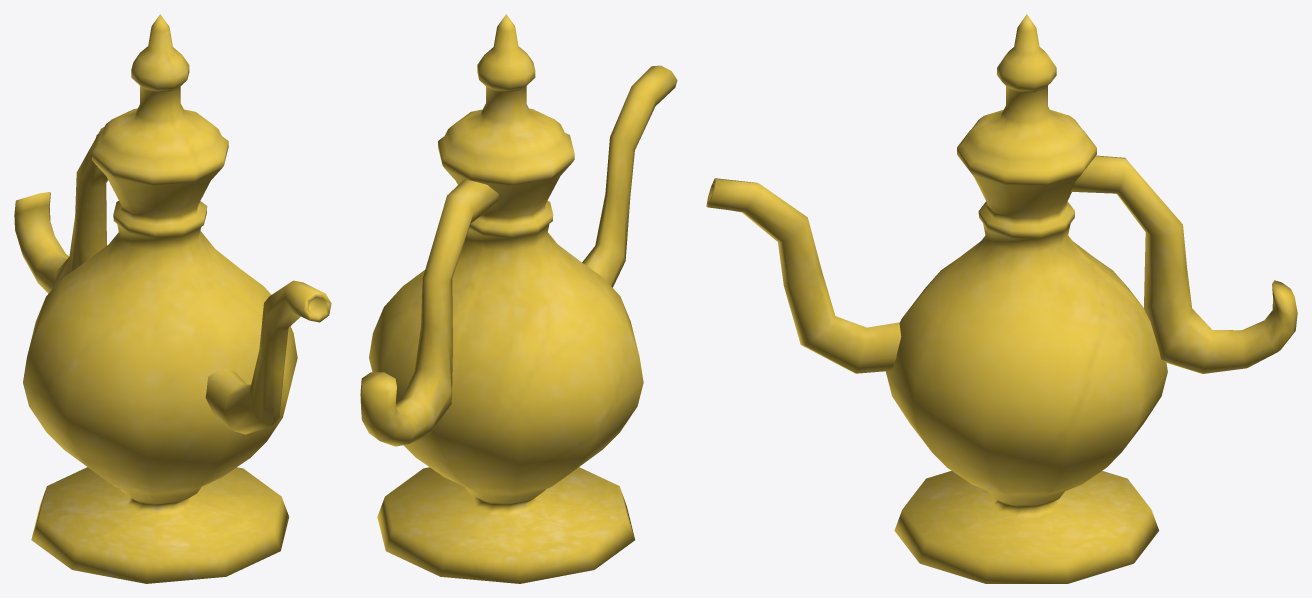
Rendered from MagicBottleLP.fbx.
3 views of the same model, side by side, from view 1: azimuth 30°, elevation 25°; view 2: azimuth 150°, elevation 25°; view 3: azimuth 270°, elevation 25° (orthographic).
Visible parts, largest first — view 1: Magic lamp; view 2: Magic lamp; view 3: Magic lamp.
Boxes of the visible parts, x1,y1,x2,y2 form: Magic lamp: (14, 14, 331, 583); Magic lamp: (360, 14, 677, 583); Magic lamp: (706, 14, 1297, 583).
Size of the model in its own units: 252 by 535 by 555.
